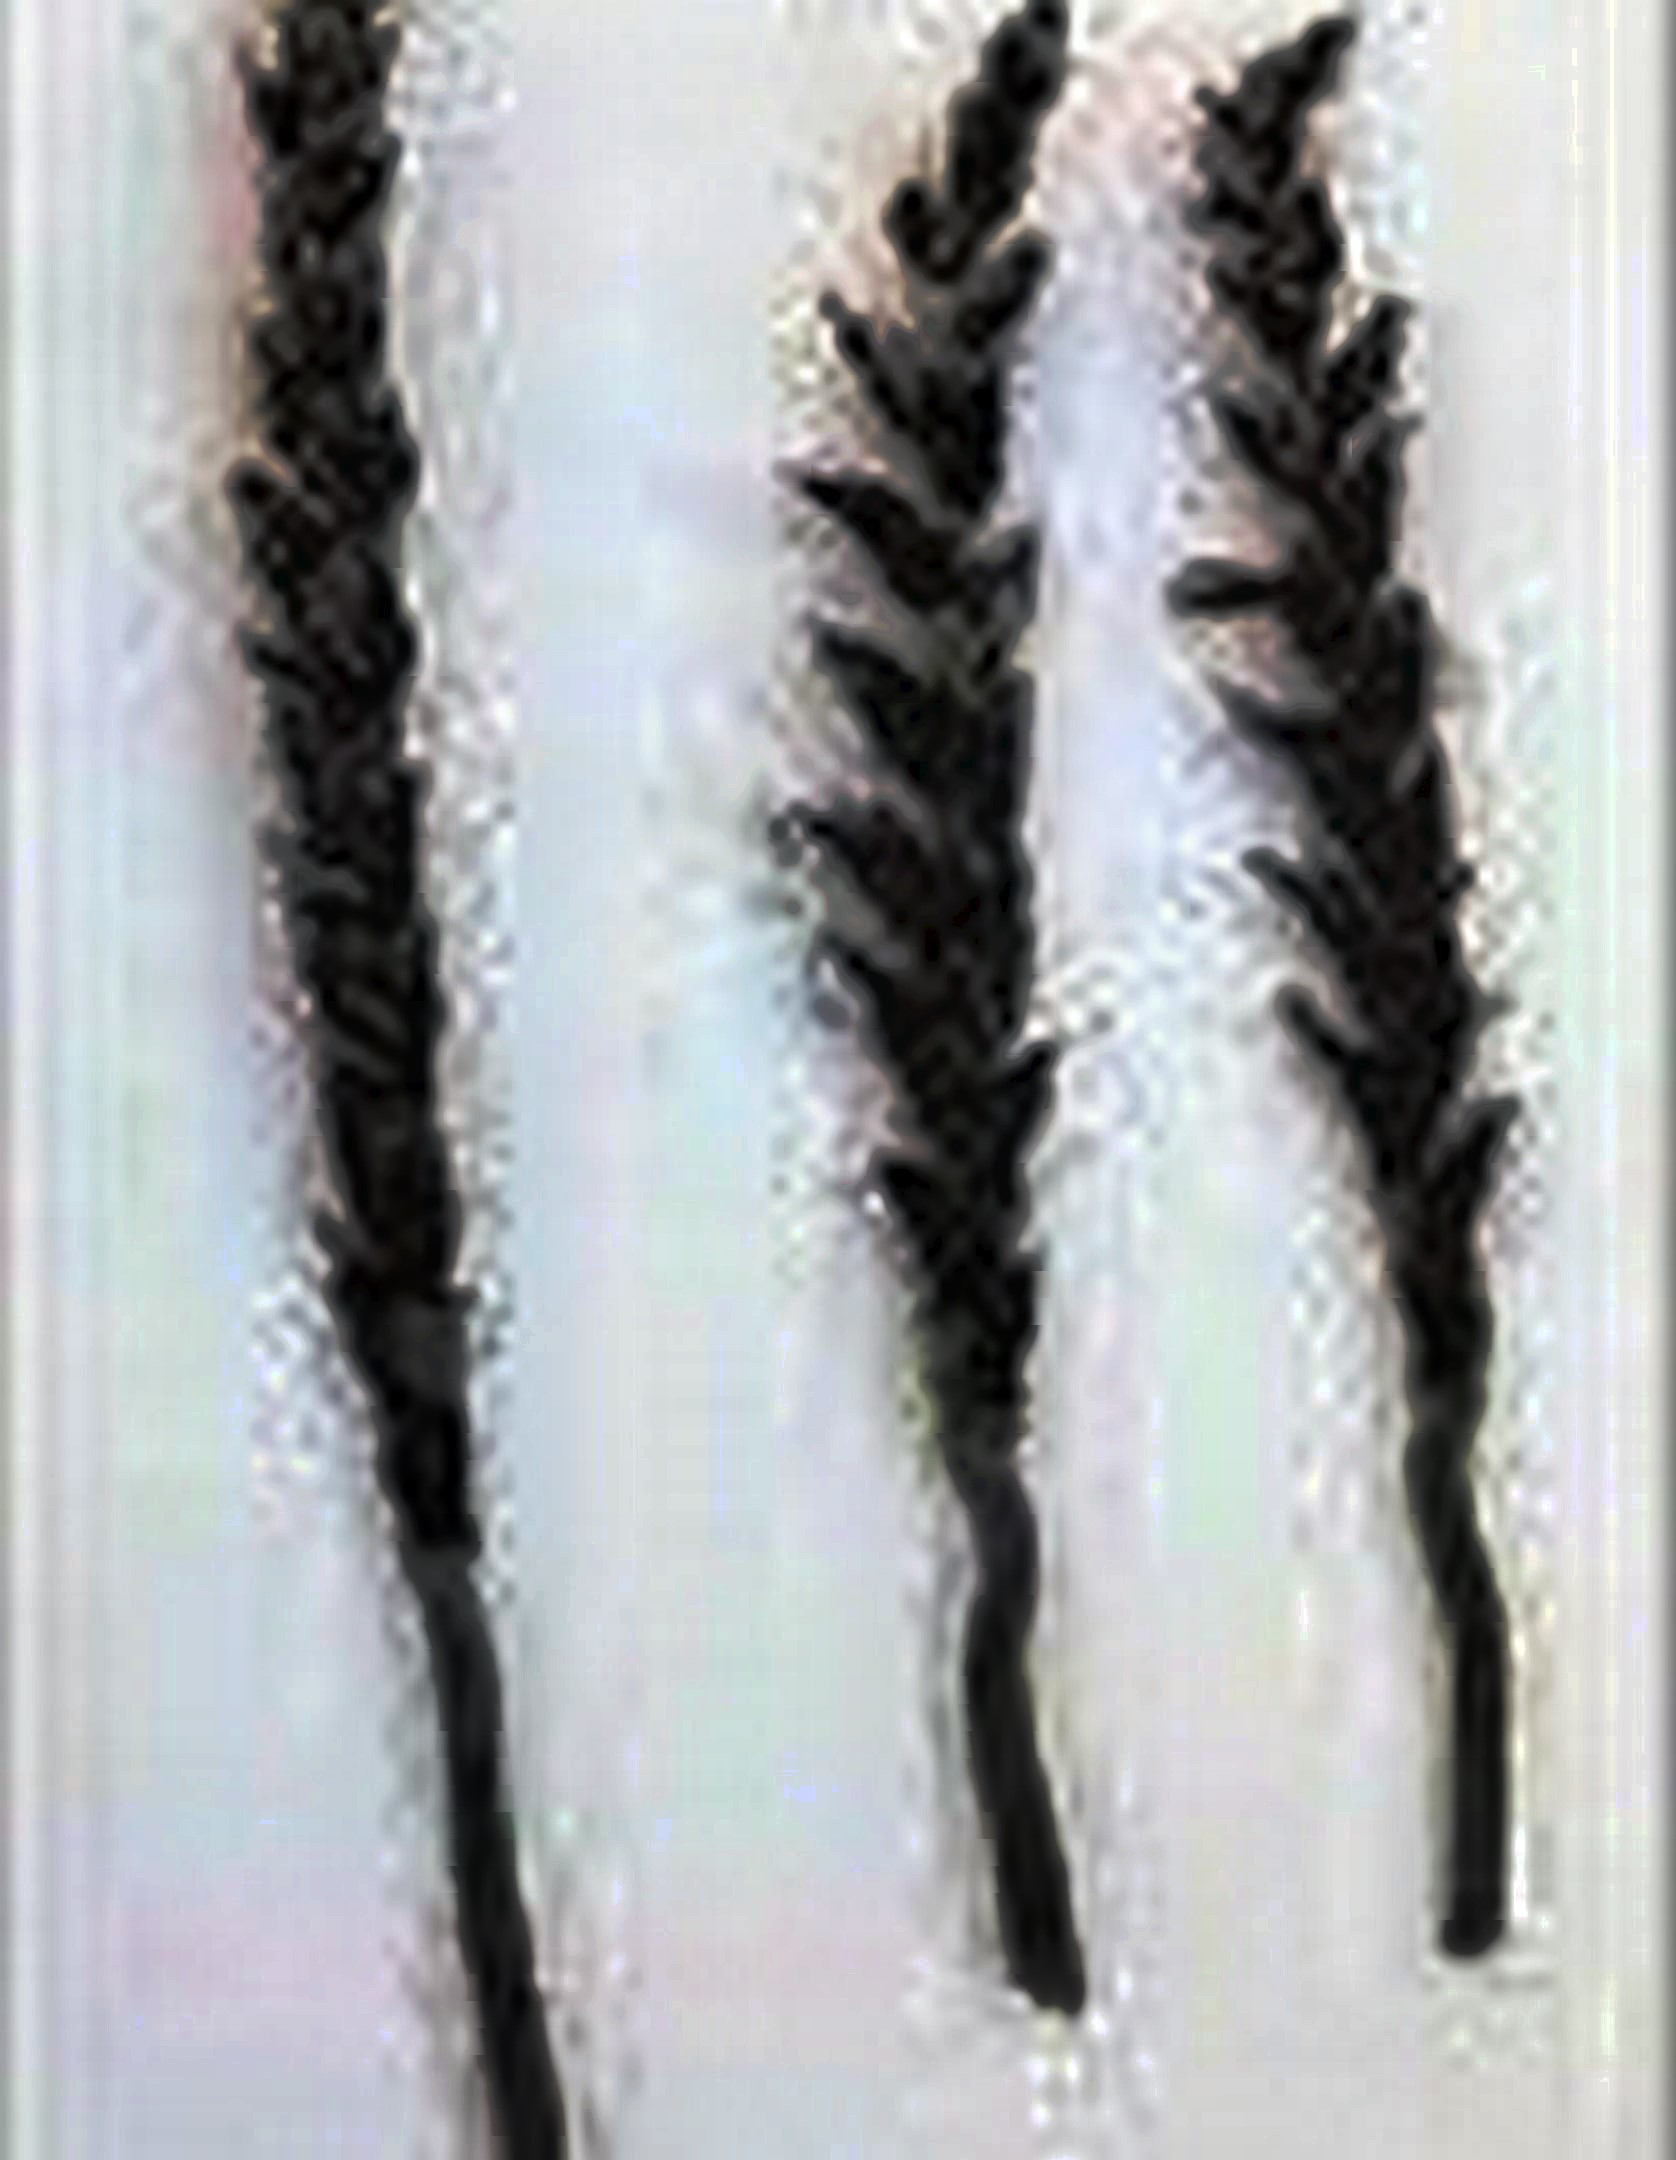Wheat Loose Smut: (757, 91, 1574, 1441), (182, 81, 614, 1536)
